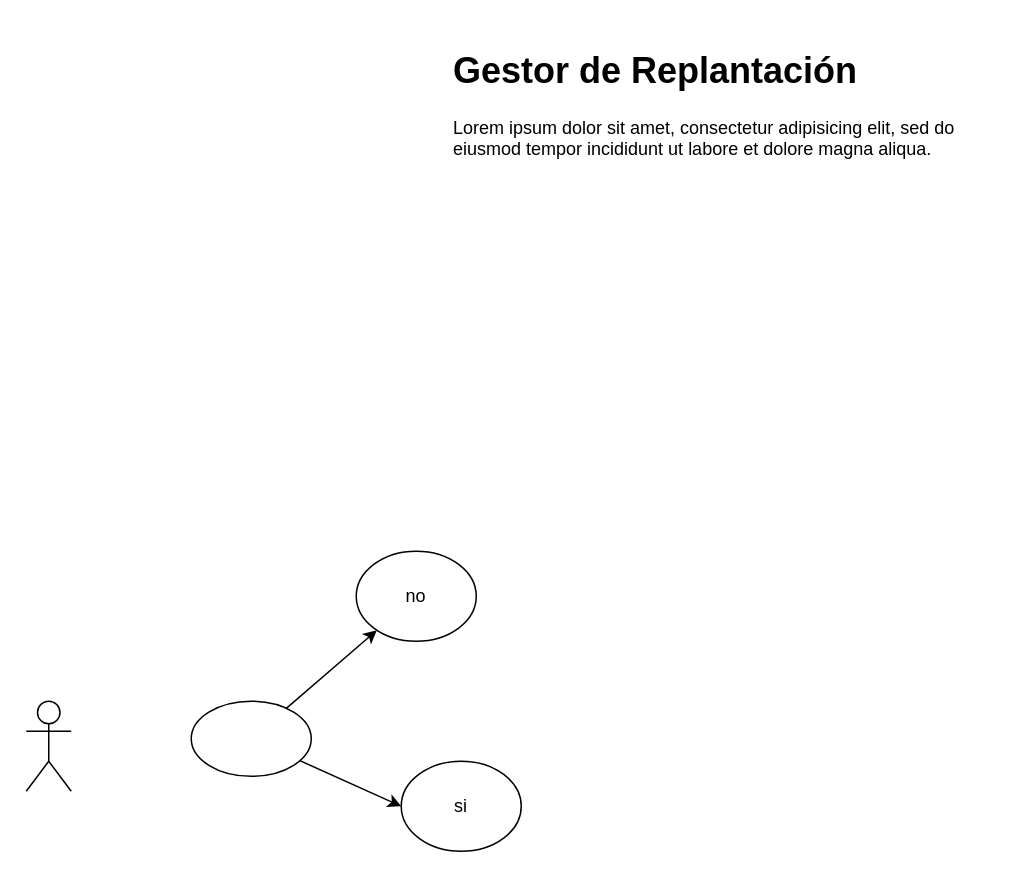
This 1013x878 diagram has some shape labels left out. Each missing label, with the centre of its shape:
Login: the point at 250,738
User: the point at 48,745
